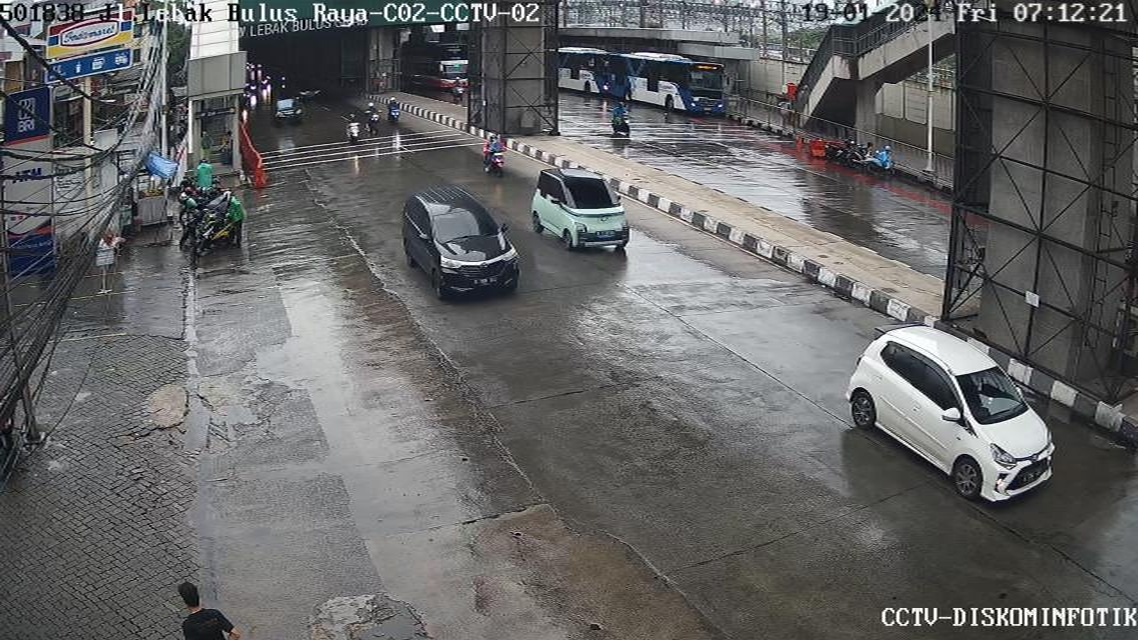Gerobak: (133, 167, 174, 231)
